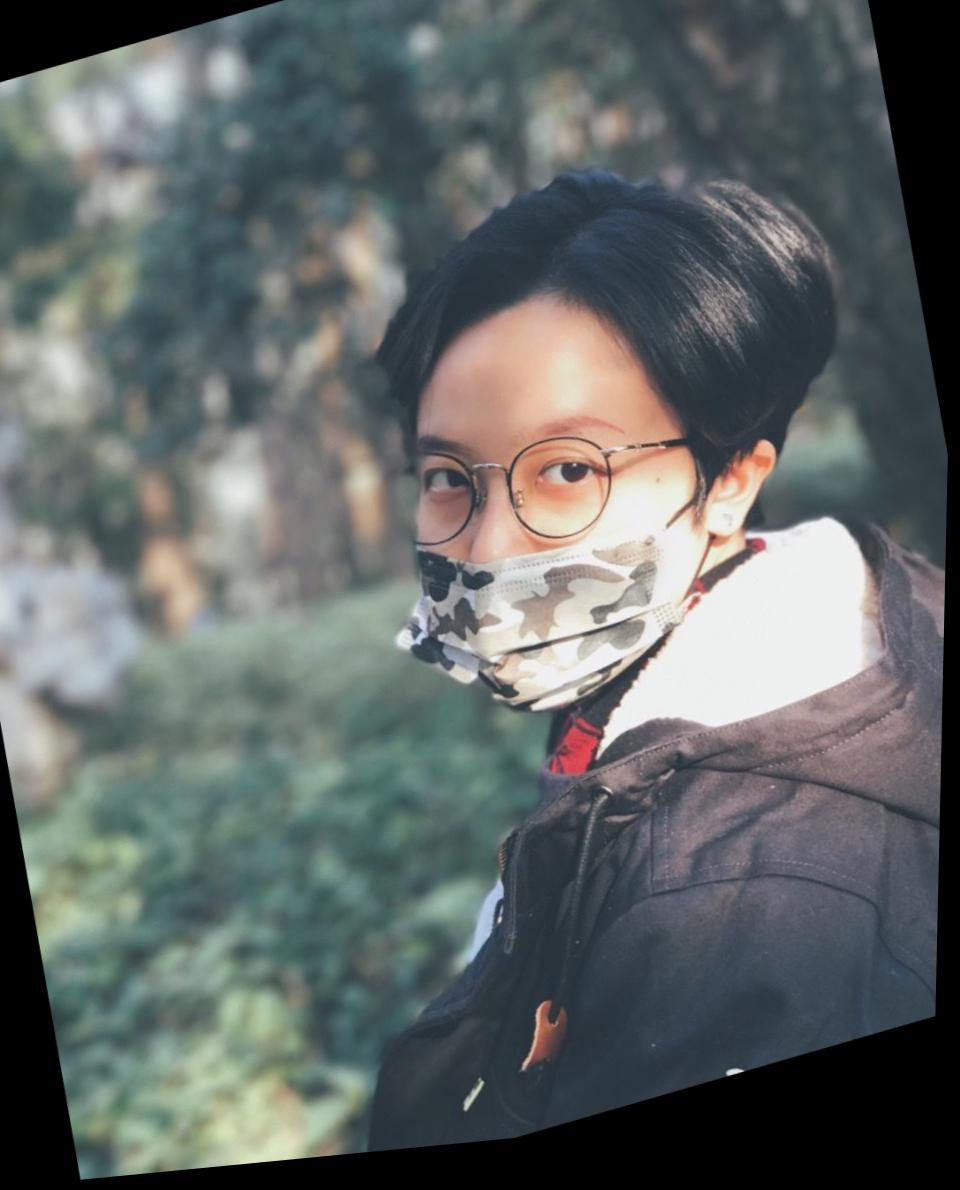WRONG: (386, 339, 704, 760)
